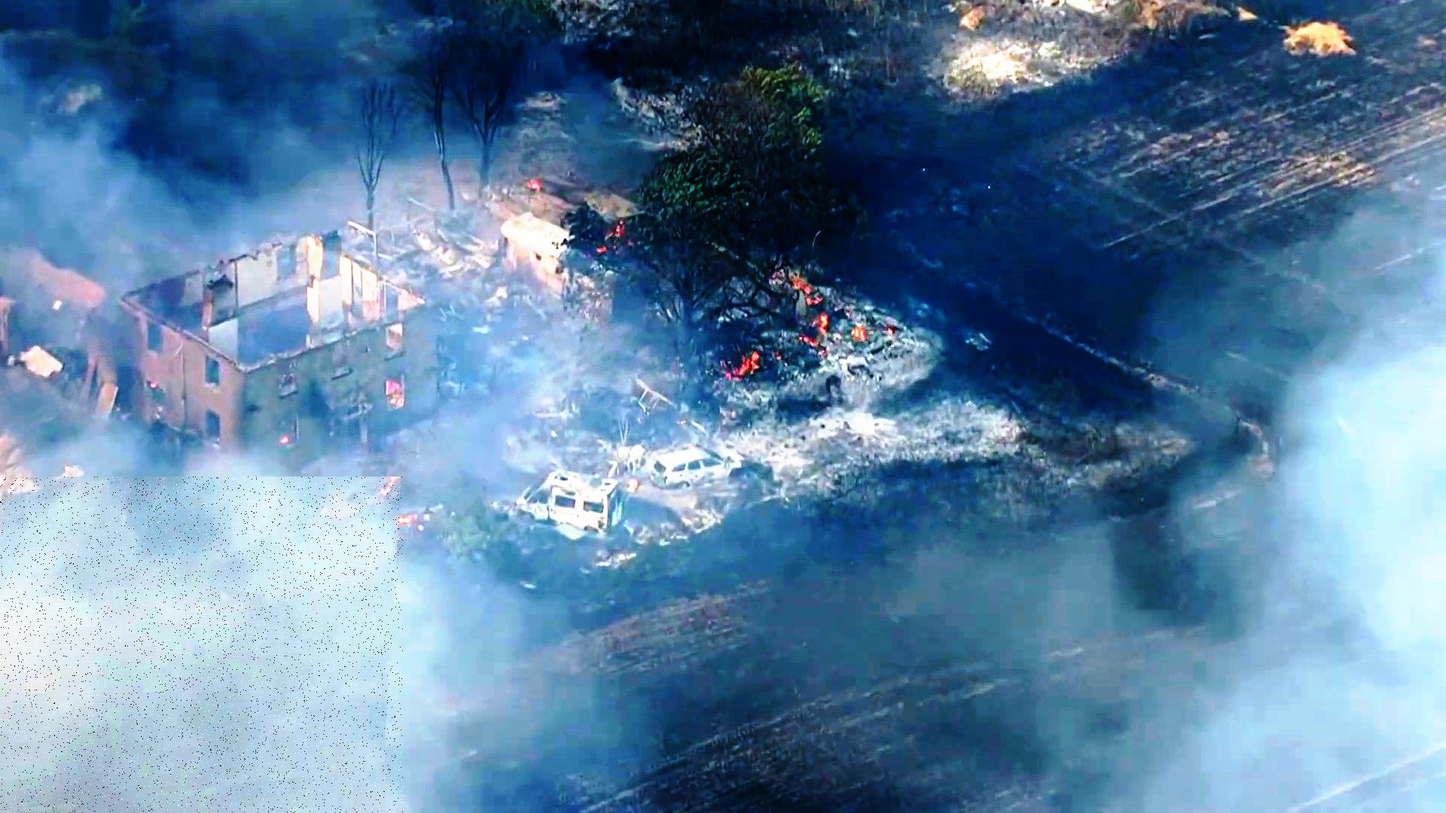smoke: (0, 477, 403, 813)
